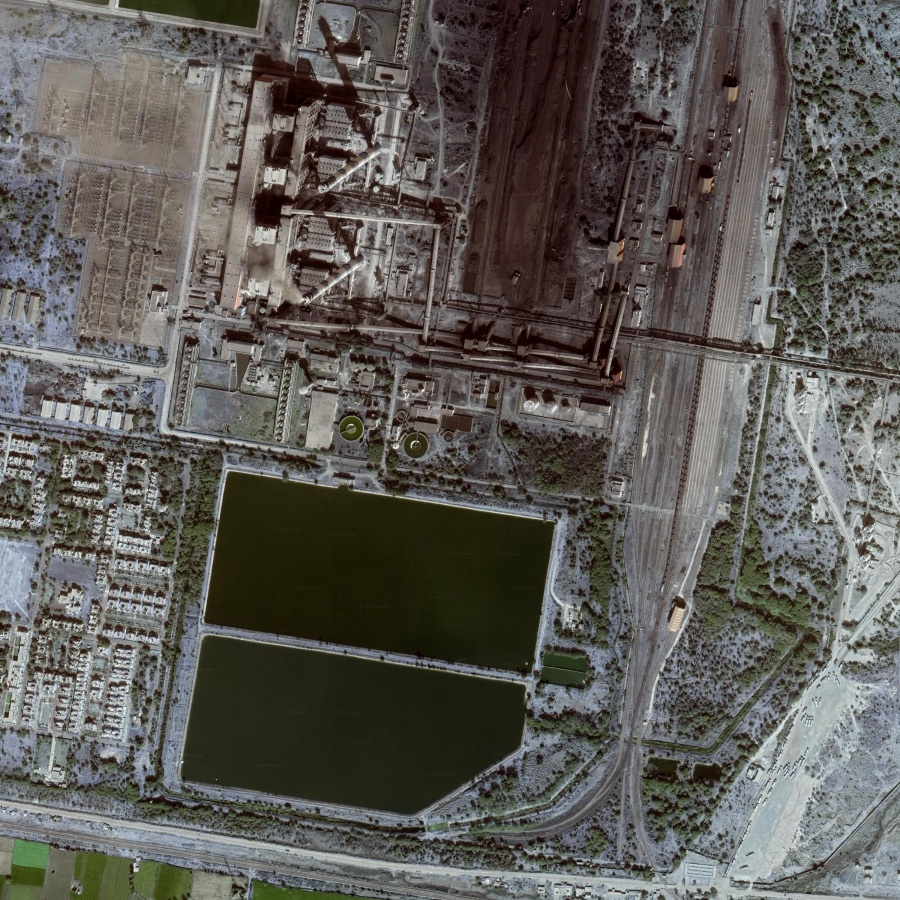PowerPlant: (152, 439, 572, 845)
